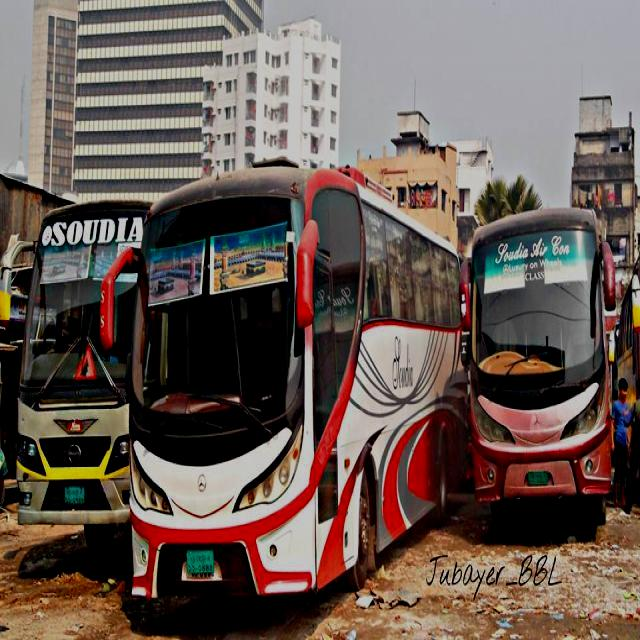bus: (98, 149, 471, 599), (459, 207, 618, 538)
